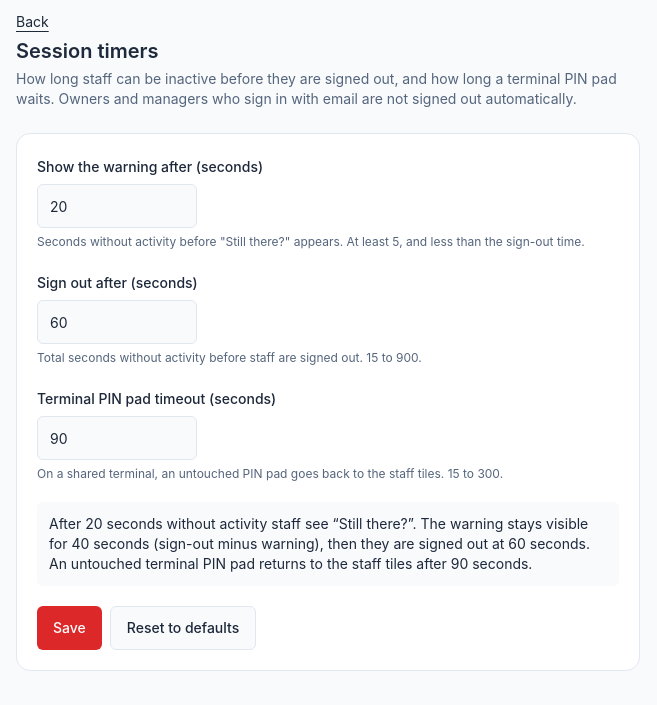
SessionTimersPage › invalid_input marks the field named by the server
This screenshot has width=657, height=705.
Check: the number field labelled "Show the warning after (seconds)" holds "20", box left=37, top=184, right=197, bottom=228
Click the button "Save". click: click(69, 628)
box: left=37, top=606, right=102, bottom=650
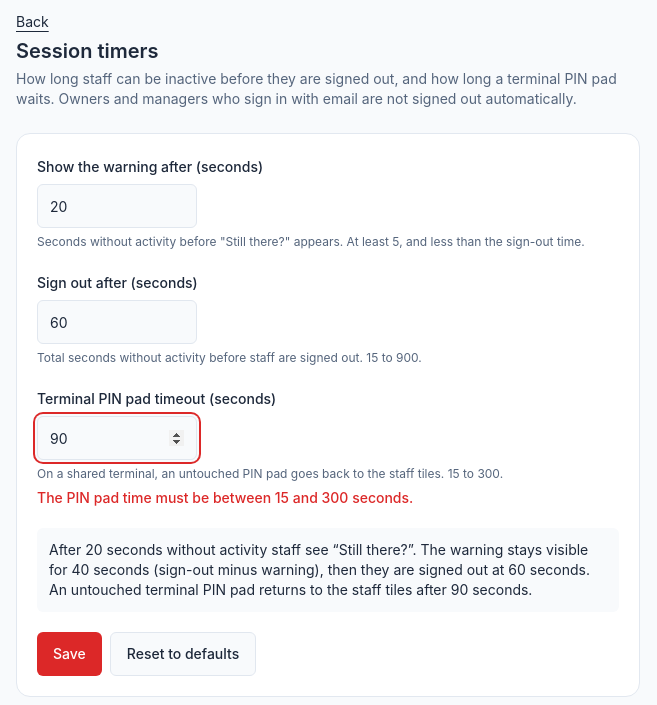
Check: the text "The PIN pad time must be between 15 and 300 seconds." is shown, box left=37, top=489, right=413, bottom=506
